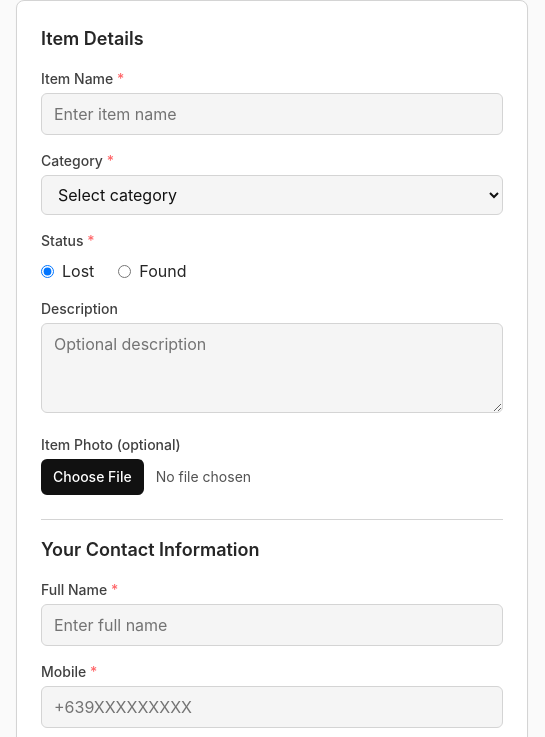
Scenario: LogItemForm › shows found-item suggestion when logging lost with matching name
Note: Status defaults to 'lost', type a matching name
Type "Laptop" into the field labelled "Item Name *" at (272, 114), box [41,93,503,135]
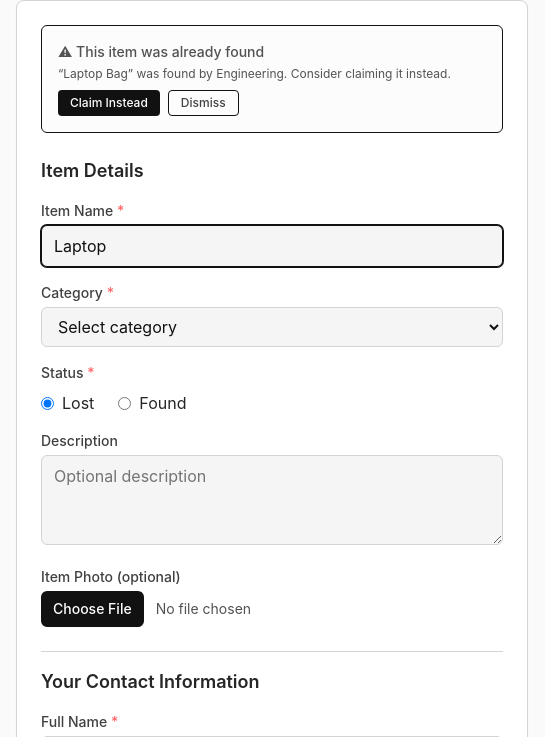
Expected: the message is shown, [41,25,503,133]
Expected: the text "⚠ This item was already found" is shown, [58,43,264,60]
Expected: the text "Laptop Bag" is shown, [63,66,128,81]
